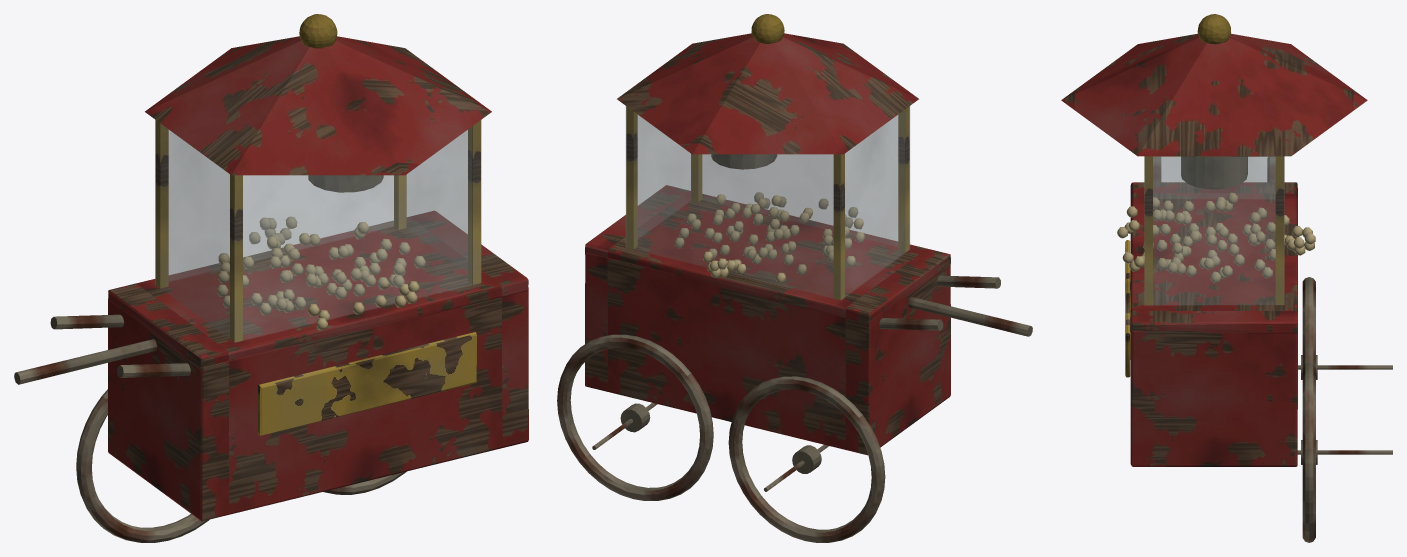
The model's file is C06_PopcornCart.glb.
3 renders of one model, left to right at view 1: azimuth 30°, elevation 25°; view 2: azimuth 150°, elevation 25°; view 3: azimuth 270°, elevation 25°, orthographic. The views are drawn at different scales.
Parts seen in each view (by area): view 1: C06_PopcornCart; view 2: C06_PopcornCart; view 3: C06_PopcornCart.
Boxes of the visible parts, x1,y1,x2,y2 form: C06_PopcornCart: (14, 14, 528, 542); C06_PopcornCart: (557, 14, 1032, 542); C06_PopcornCart: (1061, 14, 1392, 542).
Bounding box in the file's own units: 1.89 × 2 × 1.26.
Materials: 5 (5 with a texture image).
